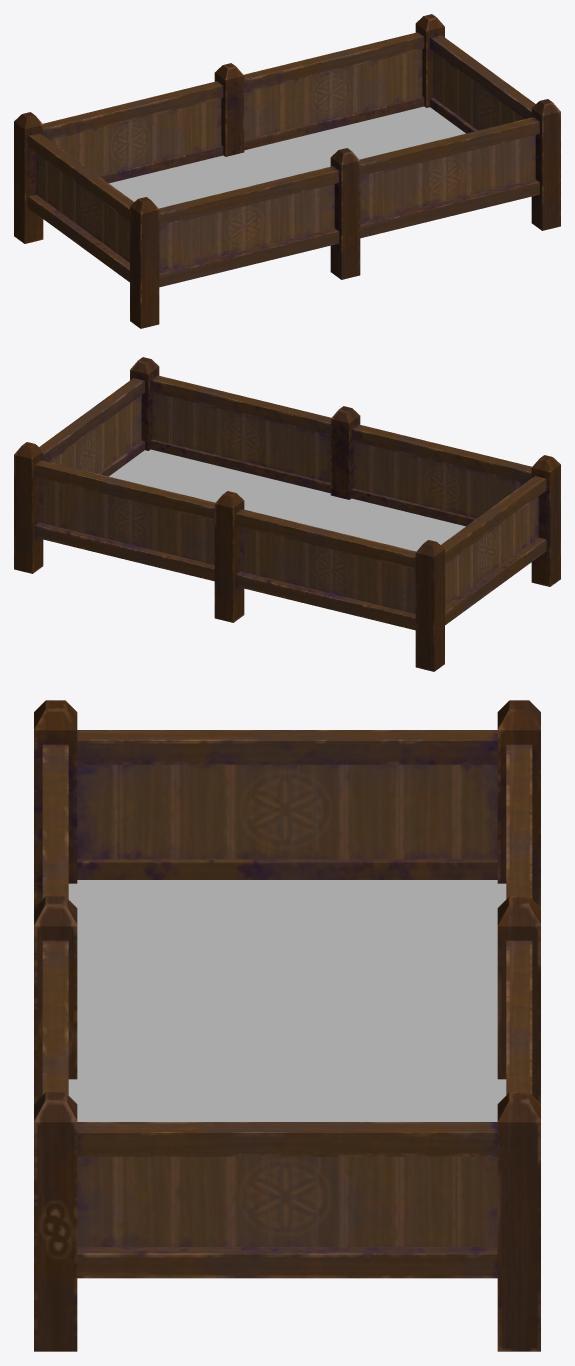
Rendered from Planter 1x2.fbx.
The picture shows the model from 3 angles, top to bottom: view 1: azimuth 30°, elevation 25°; view 2: azimuth 150°, elevation 25°; view 3: azimuth 270°, elevation 25°; orthographic projection. The views are drawn at different scales.
Visible parts, largest first — view 1: Planter_1x2_low; view 2: Planter_1x2_low; view 3: Planter_1x2_low.
Boxes of the visible parts, <box> form: Planter_1x2_low: <box>14,14,560,328</box>; Planter_1x2_low: <box>14,357,560,671</box>; Planter_1x2_low: <box>34,700,540,1351</box>.
Size of the model in its own units: 209 by 109 by 58.55.
